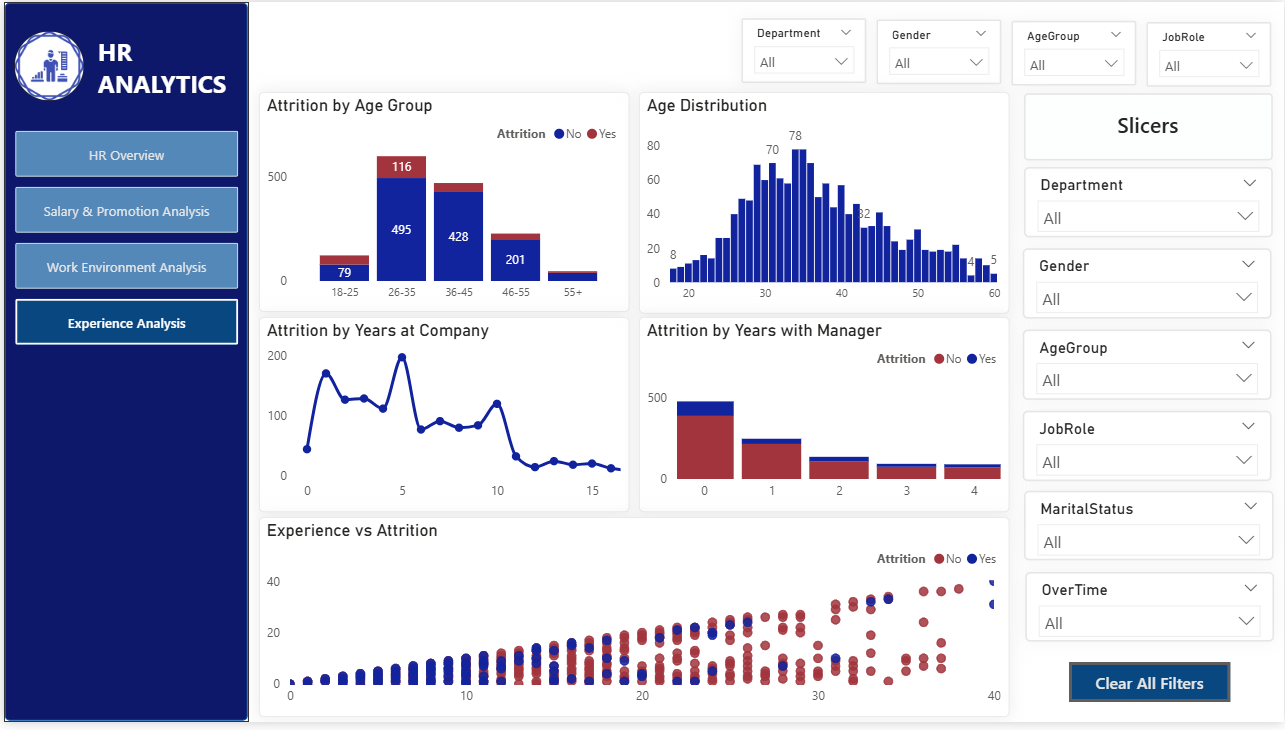

What the dashboard file says about the page in this screenshot:
{"tool":"powerbi","page":{"name":"Experience Analysis","canvas":[1280,720],"ordinal":3},"visuals":[{"type":"slicer","fields":{"Values":["HR_Analytics.Department"]},"box":[737.5,15.7,125,65],"z":0},{"type":"slicer","fields":{"Values":["HR_Analytics.AgeGroup"]},"box":[1007.3,18.4,125,65],"z":1000},{"type":"slicer","fields":{"Values":["HR_Analytics.JobRole"]},"box":[1142.2,19.7,125,65],"z":2000},{"type":"slicer","fields":{"Values":["HR_Analytics.Gender"]},"box":[872.4,17.1,125,65],"z":3000},{"type":"columnChart","title":"Attrition by Age Group","fields":{"Series":["HR_Analytics.Attrition"],"Category":["HR_Analytics.AgeGroup"],"Y":["CountNonNull(HR_Analytics.EmpID)"]},"box":[255,90,370,220],"z":4000},{"type":"slicer","fields":{"Values":["HR_Analytics.Department"]},"box":[1020,165,248.8,70],"z":5000},{"type":"slicer","fields":{"Values":["HR_Analytics.AgeGroup"]},"box":[1019.3,327.2,248.8,70],"z":6000},{"type":"slicer","fields":{"Values":["HR_Analytics.JobRole"]},"box":[1019.3,408.3,248.8,70],"z":7000},{"type":"slicer","fields":{"Values":["HR_Analytics.Gender"]},"box":[1019.3,246.1,248.8,70],"z":8000},{"type":"slicer","fields":{"Values":["HR_Analytics.MaritalStatus"]},"box":[1019.4,489.4,249.7,70],"z":9000},{"type":"textbox","box":[1019.4,91.7,248.5,67.6],"z":10000},{"type":"slicer","fields":{"Values":["HR_Analytics.OverTime"]},"box":[1020.6,570.4,248.5,70],"z":12000},{"type":"clusteredColumnChart","title":"Age Distribution","fields":{"Category":["HR_Analytics.Age"],"Y":["CountNonNull(HR_Analytics.EmpID)"]},"box":[635,90,370,221.2],"z":13000},{"type":"lineChart","title":"Attrition by Years at Company","fields":{"Y":["CountNonNull(HR_Analytics.EmpID)"],"Category":["HR_Analytics.YearsAtCompany"]},"box":[255,315,370,195],"z":14000},{"type":"columnChart","title":"Attrition by Years with Manager","fields":{"Y":["CountNonNull(HR_Analytics.EmpID)"],"Series":["HR_Analytics.Attrition"],"Category":["HR_Analytics.YearsWithCurrManager"]},"box":[635,315,370,195],"z":15000},{"type":"scatterChart","title":"Experience vs Attrition","fields":{"Series":["HR_Analytics.Attrition"],"X":["HR_Analytics.TotalWorkingYears"],"Y":["HR_Analytics.YearsAtCompany"]},"box":[255,515,750,200],"z":16000},{"type":"shape","box":[0,0,245,720],"z":17000},{"type":"textbox","box":[89,28.7,150,76.2],"z":18000},{"type":"pageNavigator","box":[11.2,128.8,223.8,216.2],"z":19000},{"type":"image","box":[10.2,28.7,70,70],"z":20000},{"type":"actionButton","box":[1065,660,161.2,40],"z":20001}]}

Visuals, with their boxes in screenshot pixels (x1, y1, x2, y2), scaled from the page's 1280x720 canvas onto the 1285x730 screenshot:
slicer - HR_Analytics.Department: (740, 16, 866, 82)
slicer - HR_Analytics.AgeGroup: (1011, 19, 1137, 85)
slicer - HR_Analytics.JobRole: (1147, 20, 1272, 86)
slicer - HR_Analytics.Gender: (876, 17, 1001, 83)
"Attrition by Age Group" columnChart: (256, 91, 627, 314)
slicer - HR_Analytics.Department: (1024, 167, 1274, 238)
slicer - HR_Analytics.AgeGroup: (1023, 332, 1273, 403)
slicer - HR_Analytics.JobRole: (1023, 414, 1273, 485)
slicer - HR_Analytics.Gender: (1023, 250, 1273, 320)
slicer - HR_Analytics.MaritalStatus: (1023, 496, 1274, 567)
textbox: (1023, 93, 1273, 162)
slicer - HR_Analytics.OverTime: (1025, 578, 1274, 649)
"Age Distribution" clusteredColumnChart: (637, 91, 1009, 316)
"Attrition by Years at Company" lineChart: (256, 319, 627, 517)
"Attrition by Years with Manager" columnChart: (637, 319, 1009, 517)
"Experience vs Attrition" scatterChart: (256, 522, 1009, 725)
shape: (0, 0, 246, 729)
textbox: (89, 29, 240, 106)
pageNavigator: (11, 131, 236, 350)
image: (10, 29, 81, 100)
actionButton: (1069, 669, 1231, 710)
